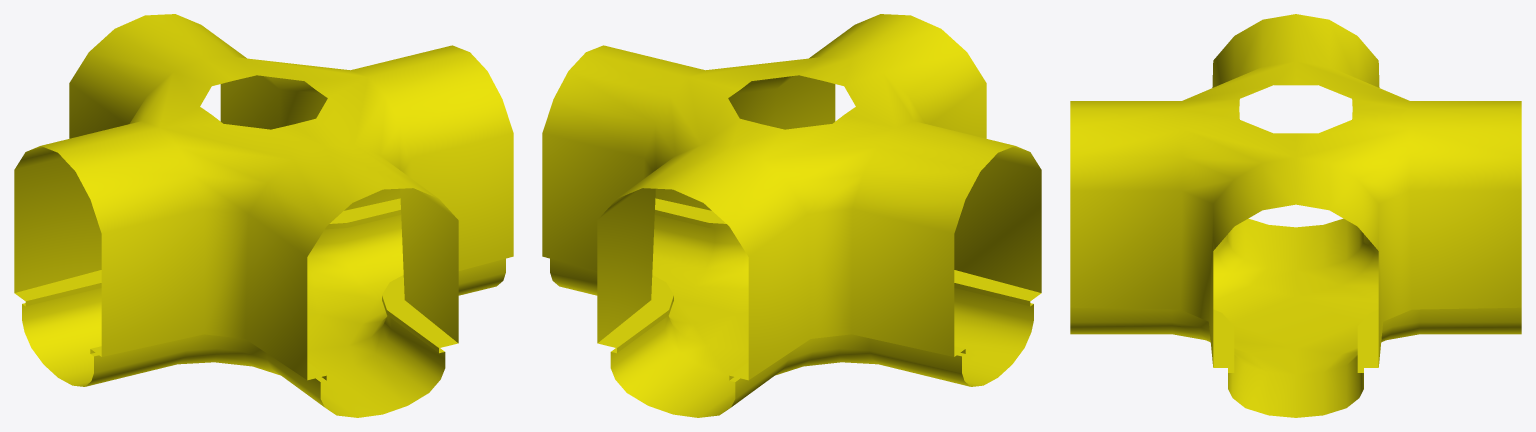
The model's file is SewerHub.fbx.
3 renders of one model, left to right at view 1: azimuth 30°, elevation 25°; view 2: azimuth 150°, elevation 25°; view 3: azimuth 270°, elevation 25°, orthographic. The views are drawn at different scales.
Parts seen in each view (by area): view 1: SewerHub; view 2: SewerHub; view 3: SewerHub.
Boxes of the visible parts, left/top/right/bottom form: SewerHub: left=14, top=14, right=513, bottom=417; SewerHub: left=542, top=14, right=1041, bottom=417; SewerHub: left=1070, top=14, right=1521, bottom=417.
Size of the model in its own units: 23.77 by 12.41 by 23.77.
